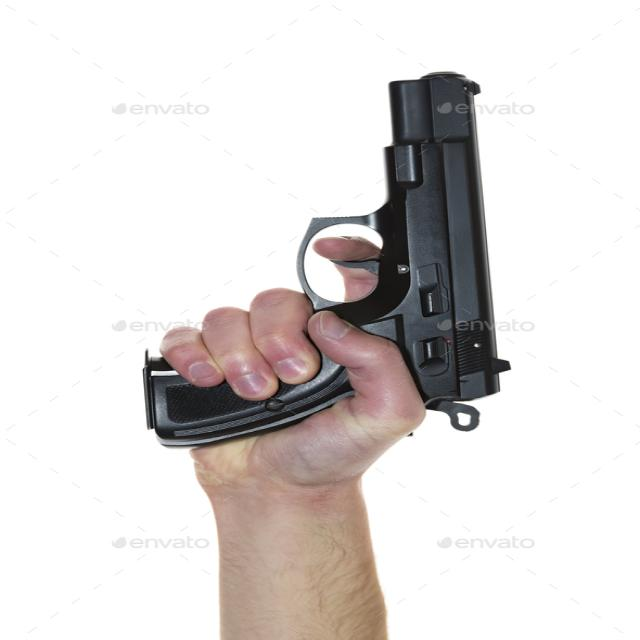HandGun: (145, 72, 511, 448)
